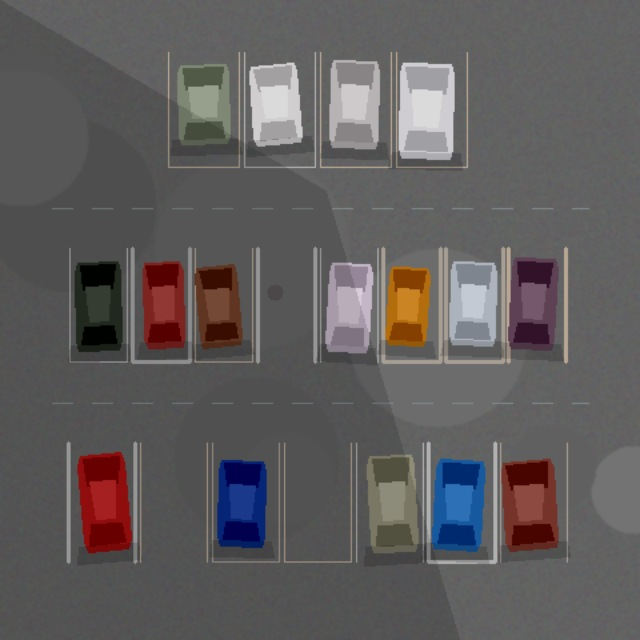space-empty: (140, 443, 207, 561), (284, 443, 351, 561), (257, 248, 315, 361)
space-occupied: (168, 52, 239, 167), (244, 52, 315, 167), (320, 52, 391, 167), (396, 52, 467, 167), (68, 443, 135, 561), (212, 443, 279, 561), (356, 443, 423, 561), (428, 443, 495, 561), (500, 443, 567, 561), (69, 248, 127, 361), (445, 248, 503, 361), (132, 248, 189, 361), (195, 248, 252, 361), (320, 248, 377, 361), (383, 248, 440, 361), (508, 248, 565, 361)
